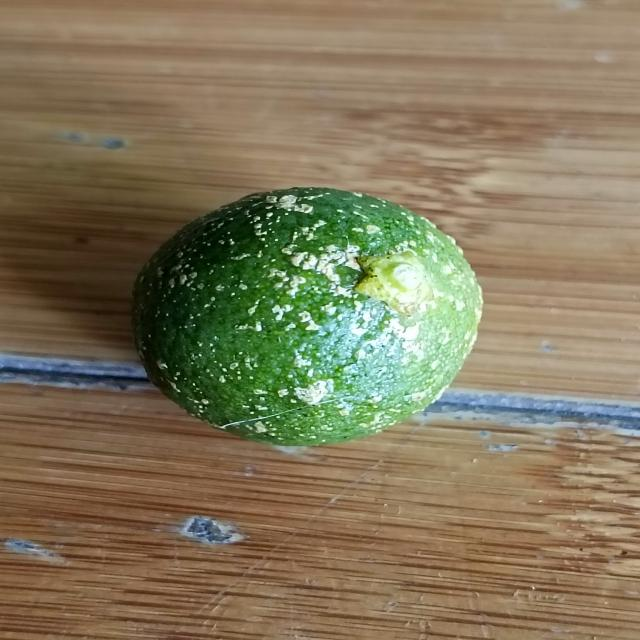scab: (114, 182, 493, 448)
